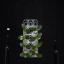leaf: (36, 41, 43, 48), (35, 33, 43, 39), (36, 25, 42, 31), (21, 23, 26, 30), (17, 36, 25, 40), (36, 53, 42, 58), (20, 42, 25, 47), (20, 52, 25, 57), (30, 45, 35, 50), (30, 27, 36, 31), (31, 36, 35, 42), (26, 53, 32, 57), (26, 44, 30, 49), (26, 29, 30, 33), (26, 35, 30, 39), (31, 51, 35, 55)
